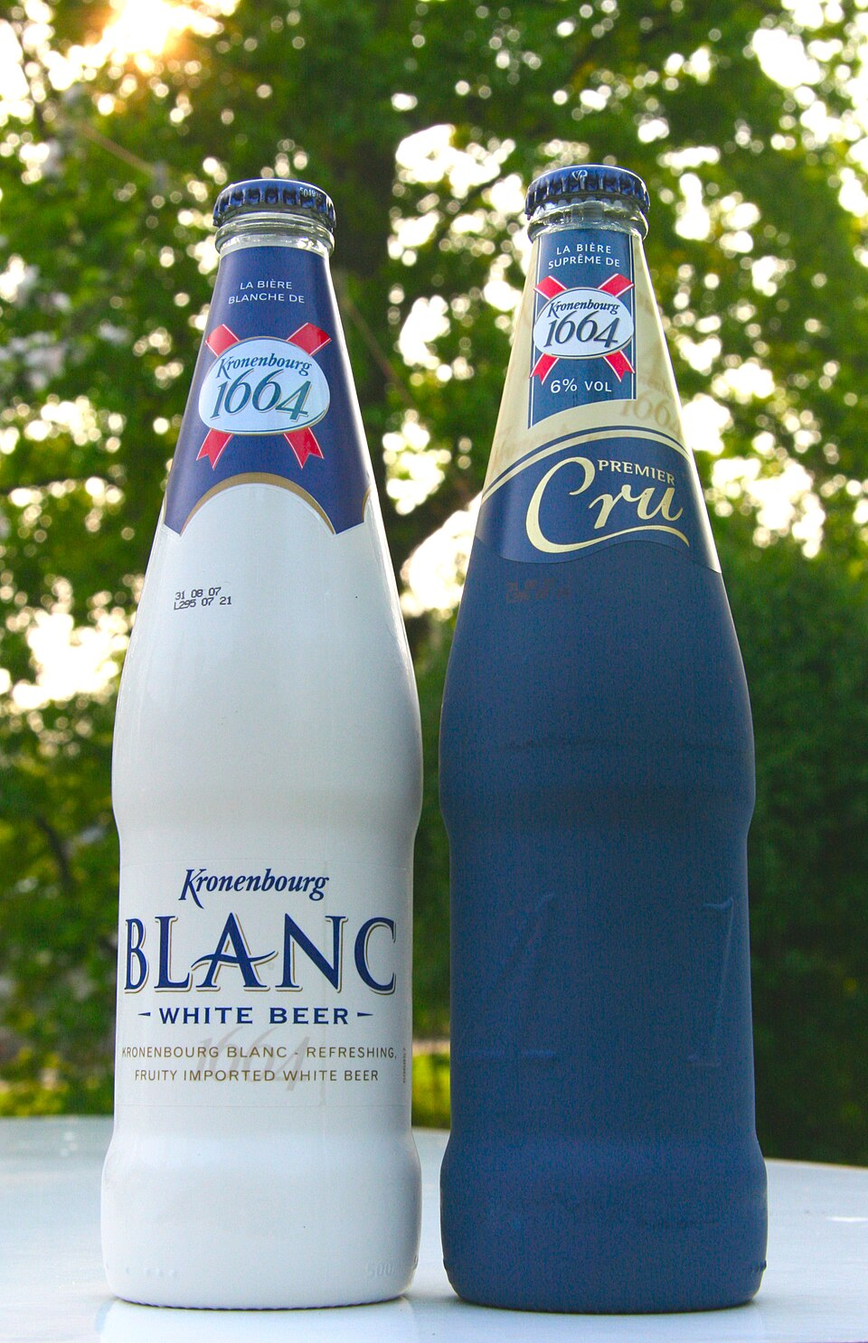beer-bottle: (84, 173, 438, 1317), (424, 150, 770, 1319)
